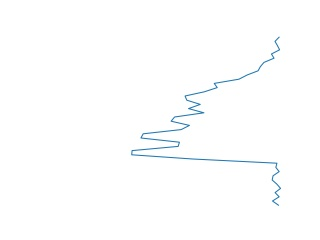proximalDeepseaFan: (126, 36, 288, 206)
